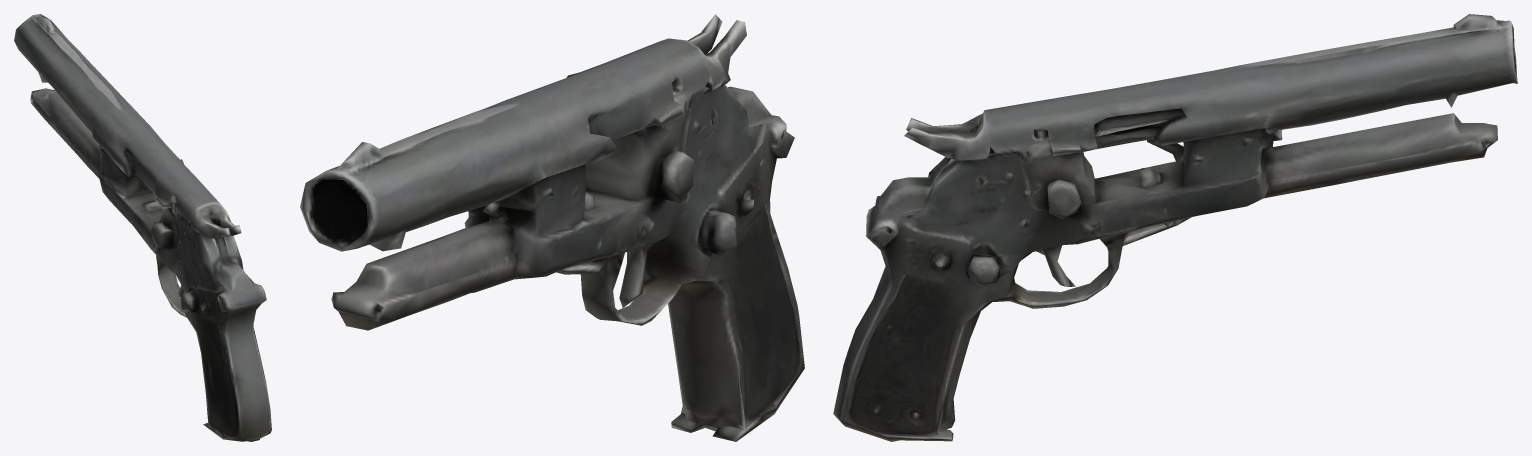
Rendered from gun_body_pistol_lod1.glb.
3 views of the same model, side by side, from view 1: azimuth 30°, elevation 25°; view 2: azimuth 150°, elevation 25°; view 3: azimuth 270°, elevation 25° (orthographic). The views are drawn at different scales.
Visible parts, largest first — view 1: gun_body_pistol; view 2: gun_body_pistol; view 3: gun_body_pistol.
Part boxes in pixels (x1,y1,x2,y2): gun_body_pistol: (14,14,271,441); gun_body_pistol: (300,14,804,441); gun_body_pistol: (833,14,1517,441).
Bounding box in the file's own units: 0.025 × 0.1217 × 0.1798.
1 material, 1 textured.
